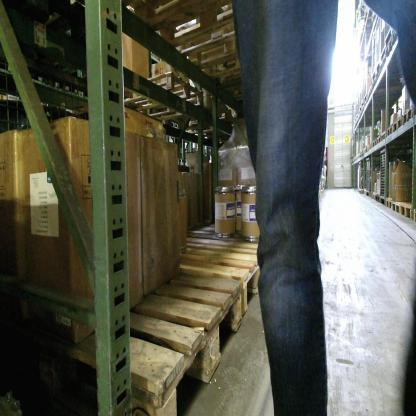pallets: (129, 237, 261, 412), (355, 186, 415, 243), (370, 110, 416, 154)
